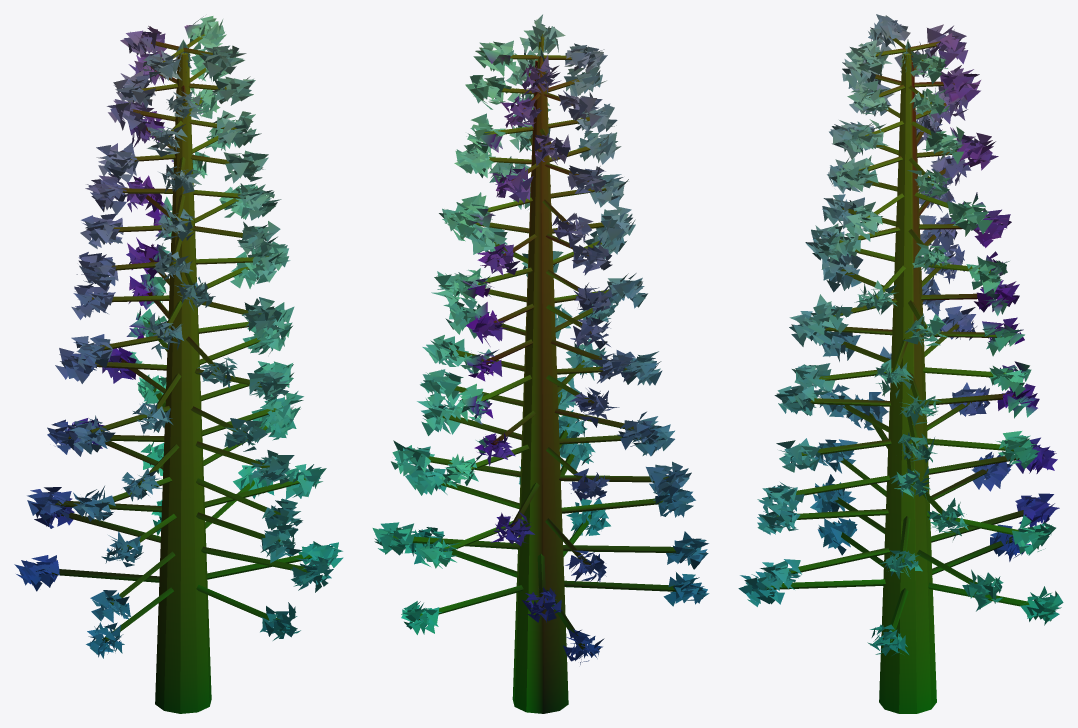
File: ecological_conifer_ancient_01.glb
3 renders of one model, left to right at view 1: azimuth 30°, elevation 25°; view 2: azimuth 150°, elevation 25°; view 3: azimuth 270°, elevation 25°, orthographic.
Parts seen in each view (by area): view 1: ecological_conifer_ancient_01; view 2: ecological_conifer_ancient_01; view 3: ecological_conifer_ancient_01.
Part boxes in pixels (x1,y1,x2,y2): ecological_conifer_ancient_01: [14, 16, 343, 713]; ecological_conifer_ancient_01: [372, 14, 709, 713]; ecological_conifer_ancient_01: [738, 14, 1063, 713].
Size of the model in its own units: 18.43 by 42.23 by 18.63.
